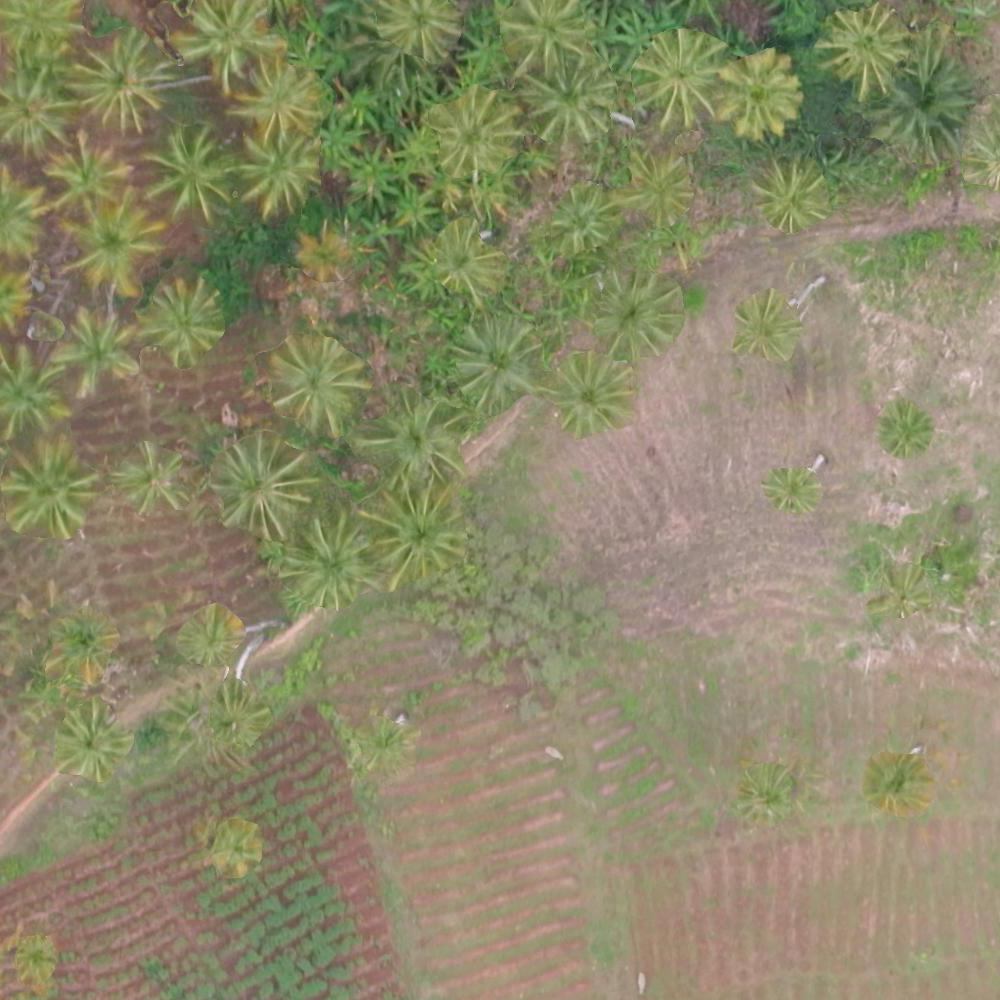Palm: (353, 395, 467, 491), (270, 334, 363, 434), (171, 2, 283, 84), (216, 435, 311, 530), (65, 197, 158, 290), (371, 491, 465, 580), (72, 34, 163, 125), (49, 307, 140, 398), (4, 444, 95, 535), (632, 32, 722, 122), (819, 8, 912, 95), (285, 514, 377, 600), (144, 129, 233, 215), (235, 128, 321, 216), (430, 89, 517, 174), (1, 340, 74, 436), (519, 66, 610, 142), (552, 354, 634, 436), (422, 216, 502, 300), (718, 51, 800, 132), (44, 133, 127, 213), (372, 1, 465, 72), (455, 317, 530, 405), (593, 272, 675, 352), (137, 282, 222, 358), (231, 58, 318, 132), (499, 1, 596, 66), (749, 157, 828, 234), (53, 706, 133, 781), (117, 443, 195, 513), (1, 71, 69, 151), (625, 149, 692, 225), (44, 608, 113, 677), (1, 1, 79, 62), (735, 290, 800, 363), (866, 748, 936, 814), (554, 183, 622, 246), (198, 690, 266, 749), (176, 607, 240, 662), (764, 465, 824, 515), (879, 406, 933, 458)
